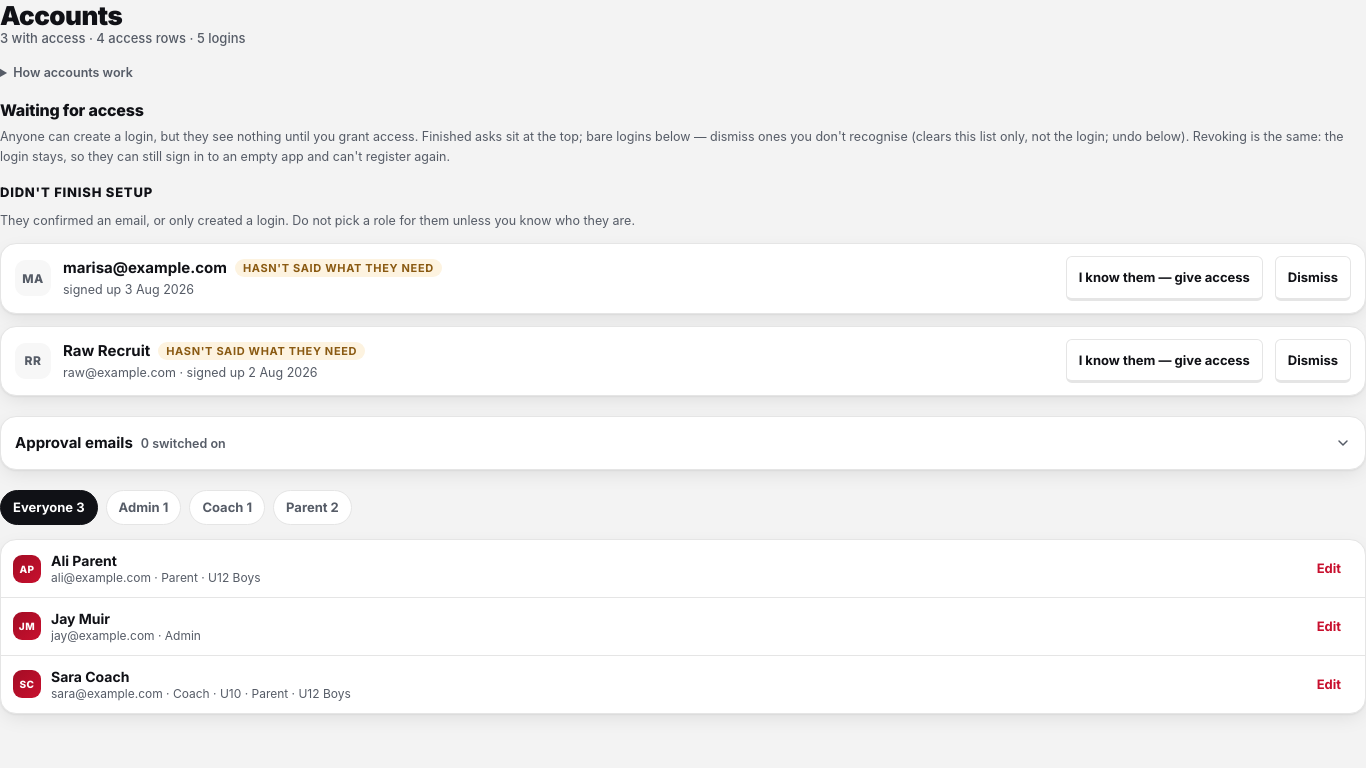
Test: Accounts — changing access › reports a refused write inline on the row
The width and height of the screenshot is (1366, 768).
expect the text "Sara Coach" is shown: met, box 51,668 -> 129,685
Click the button "Edit" in the row of "ali@example.com" at (1329, 569), box 1305,548 -> 1353,589
(page scrolled)
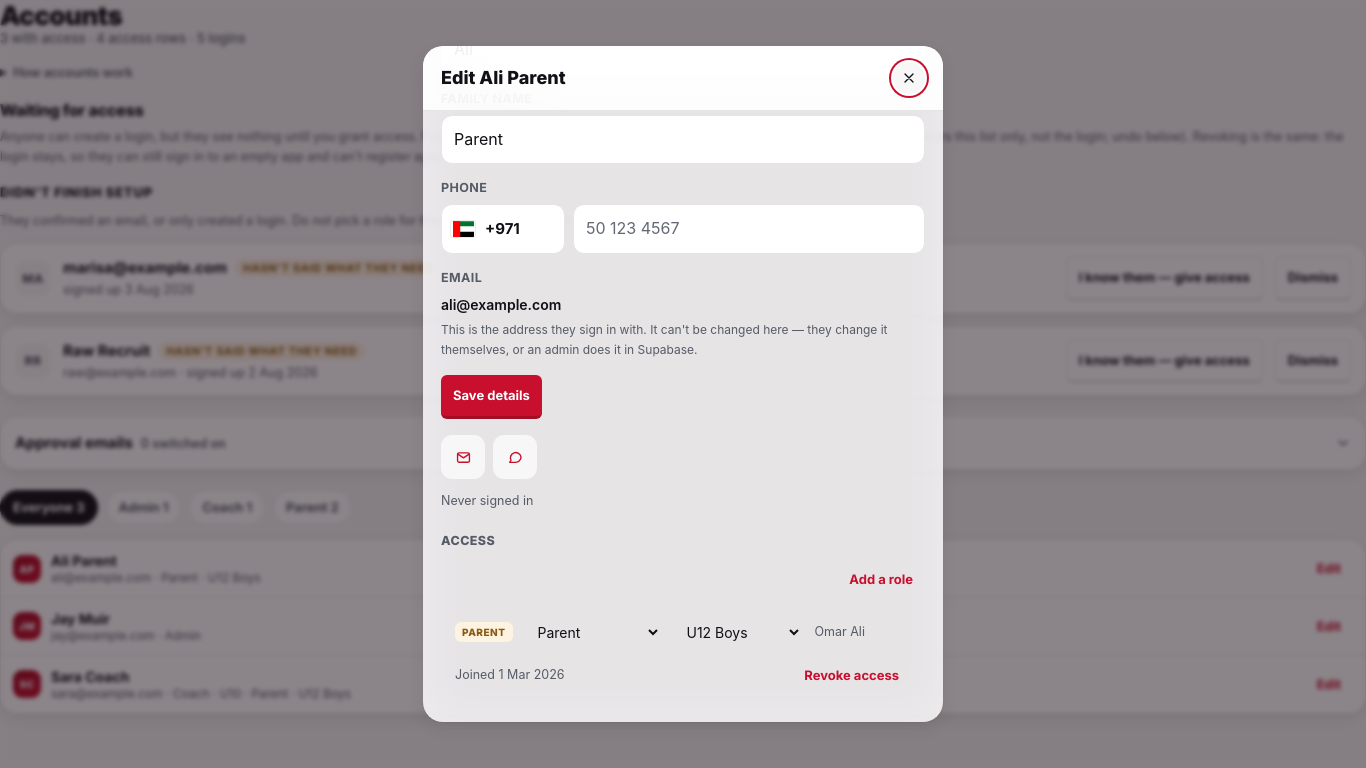
Select "Coach" in the dropdown named "Role for Ali Parent (U12 Boys)" at (593, 632), box 524,618 -> 662,647
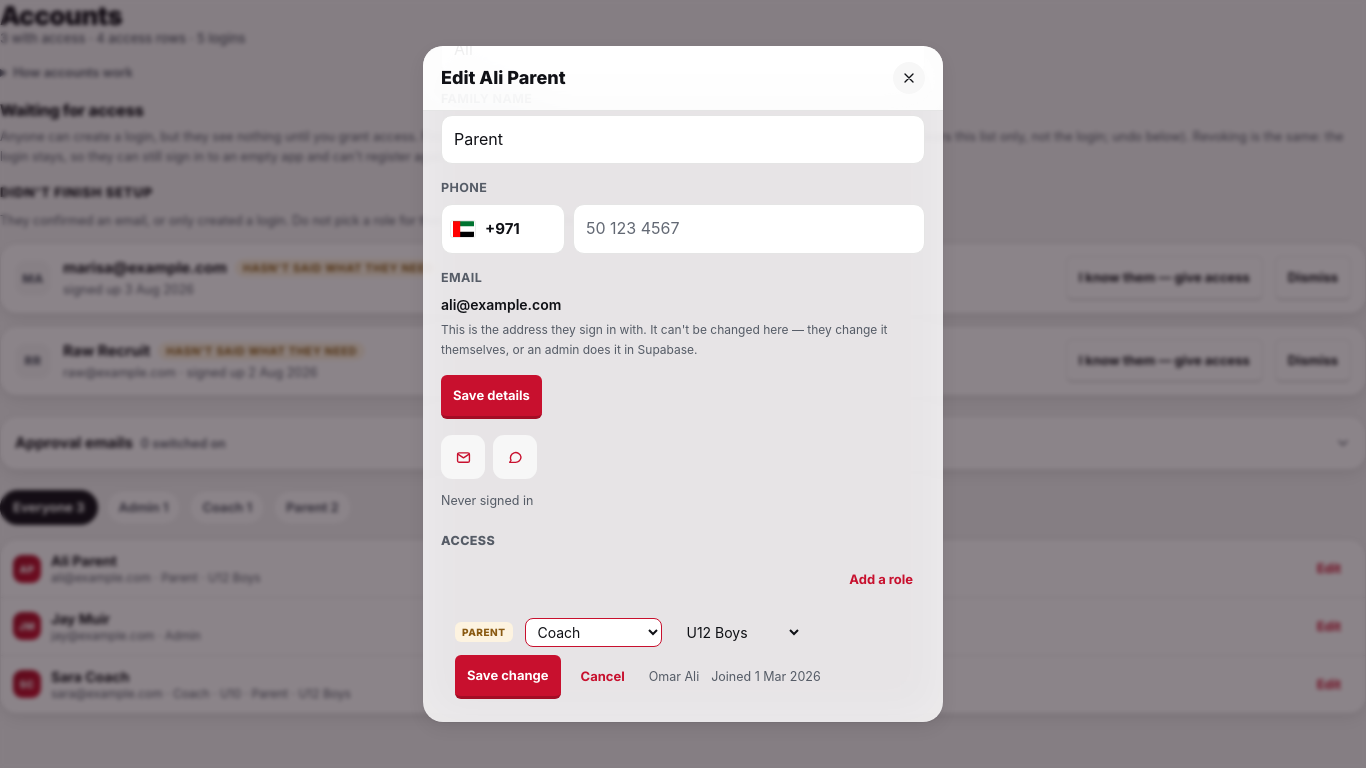
Click the button with aria-label "Save change for Ali Parent (U12 Boys)" at (508, 677), box 455,655 -> 561,699
(page scrolled)
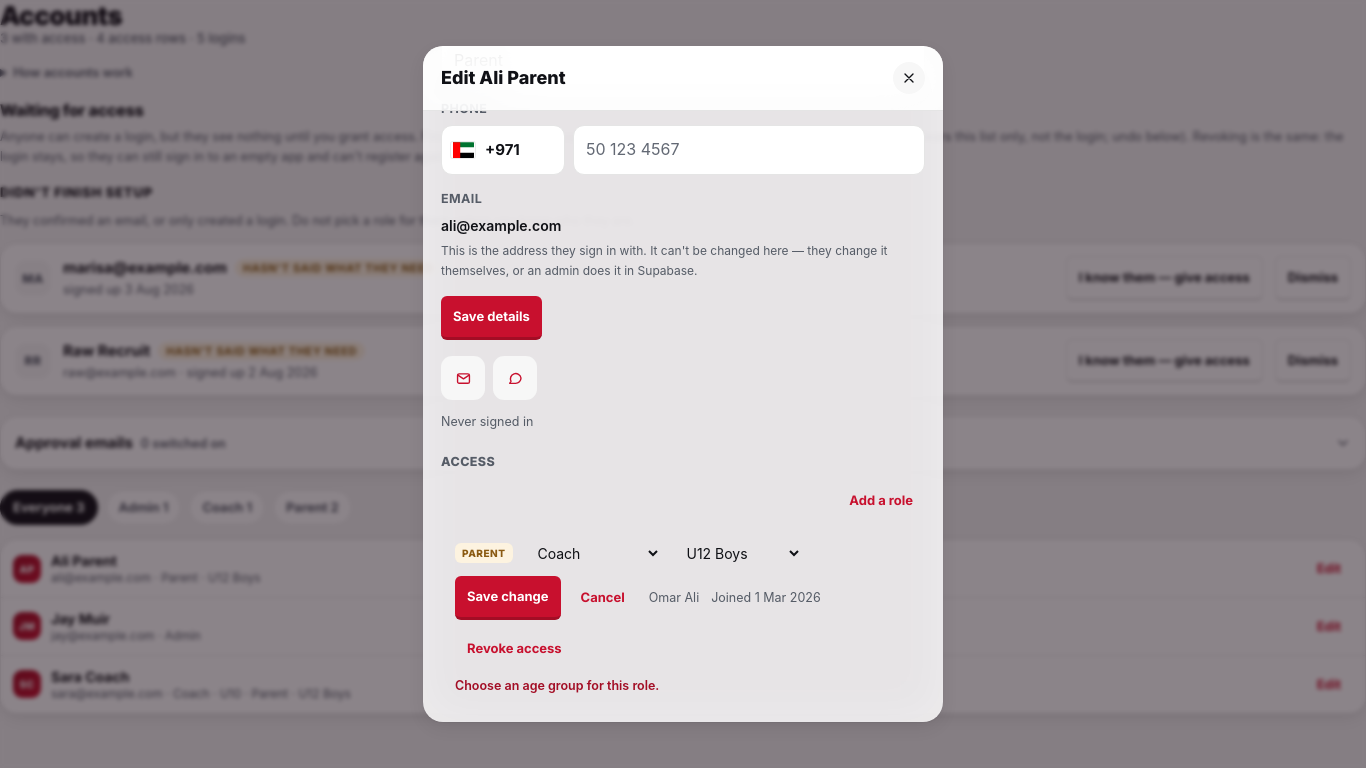
expect the message shows "Choose an age group": met, box 455,678 -> 659,693
